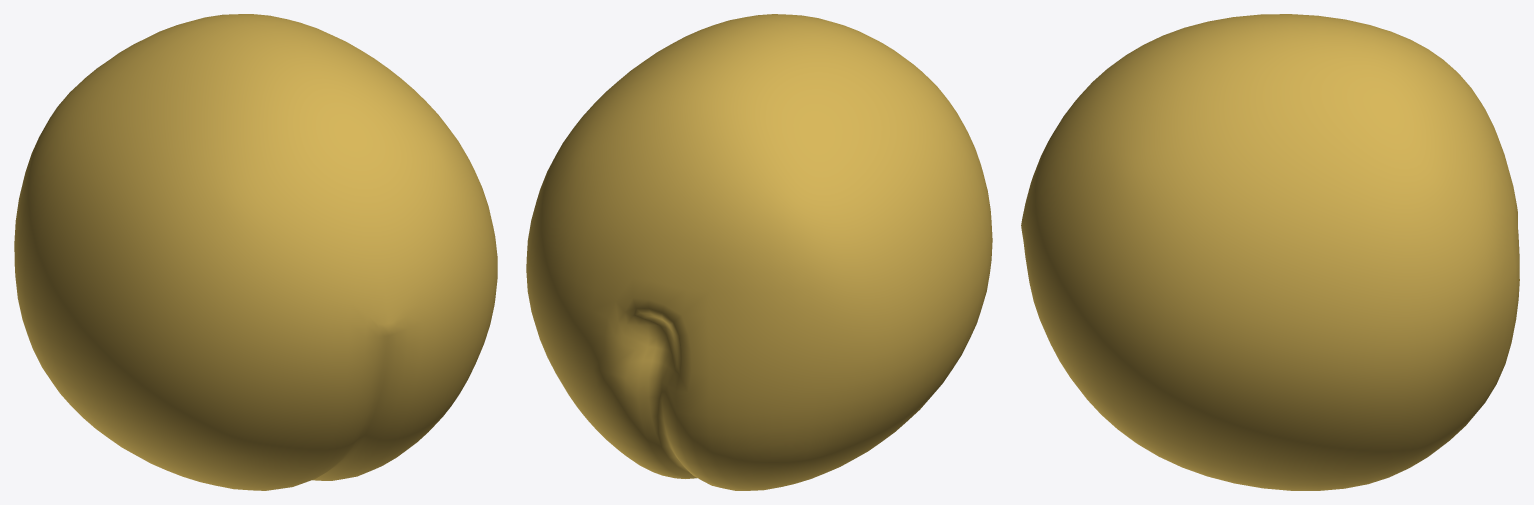
Rendered from YellowPeachFlesh.obj.
3 renders of one model, left to right at view 1: azimuth 30°, elevation 25°; view 2: azimuth 150°, elevation 25°; view 3: azimuth 270°, elevation 25°, orthographic. The views are drawn at different scales.
Parts seen in each view (by area): view 1: YellowPeachFlesh; view 2: YellowPeachFlesh; view 3: YellowPeachFlesh.
Part boxes in pixels (x1,y1,x2,y2): YellowPeachFlesh: (14, 14, 497, 490); YellowPeachFlesh: (526, 14, 992, 490); YellowPeachFlesh: (1021, 14, 1519, 490).
Bounding box in the file's own units: 0.096 × 0.0996 × 0.104.
